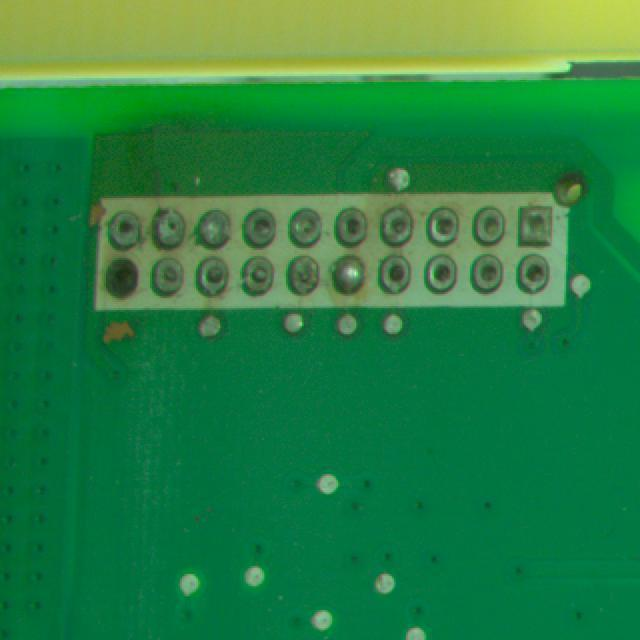Insufficient solder: (284, 251, 323, 303), (285, 201, 326, 250), (151, 254, 191, 303), (335, 201, 371, 248), (515, 250, 555, 292), (157, 201, 194, 246), (106, 207, 144, 249), (103, 258, 146, 295), (238, 257, 281, 294), (379, 206, 415, 250), (199, 255, 236, 297), (425, 250, 460, 294), (518, 202, 555, 243), (469, 255, 506, 295), (382, 251, 412, 297), (245, 205, 277, 247), (475, 203, 507, 244), (430, 203, 462, 241)
